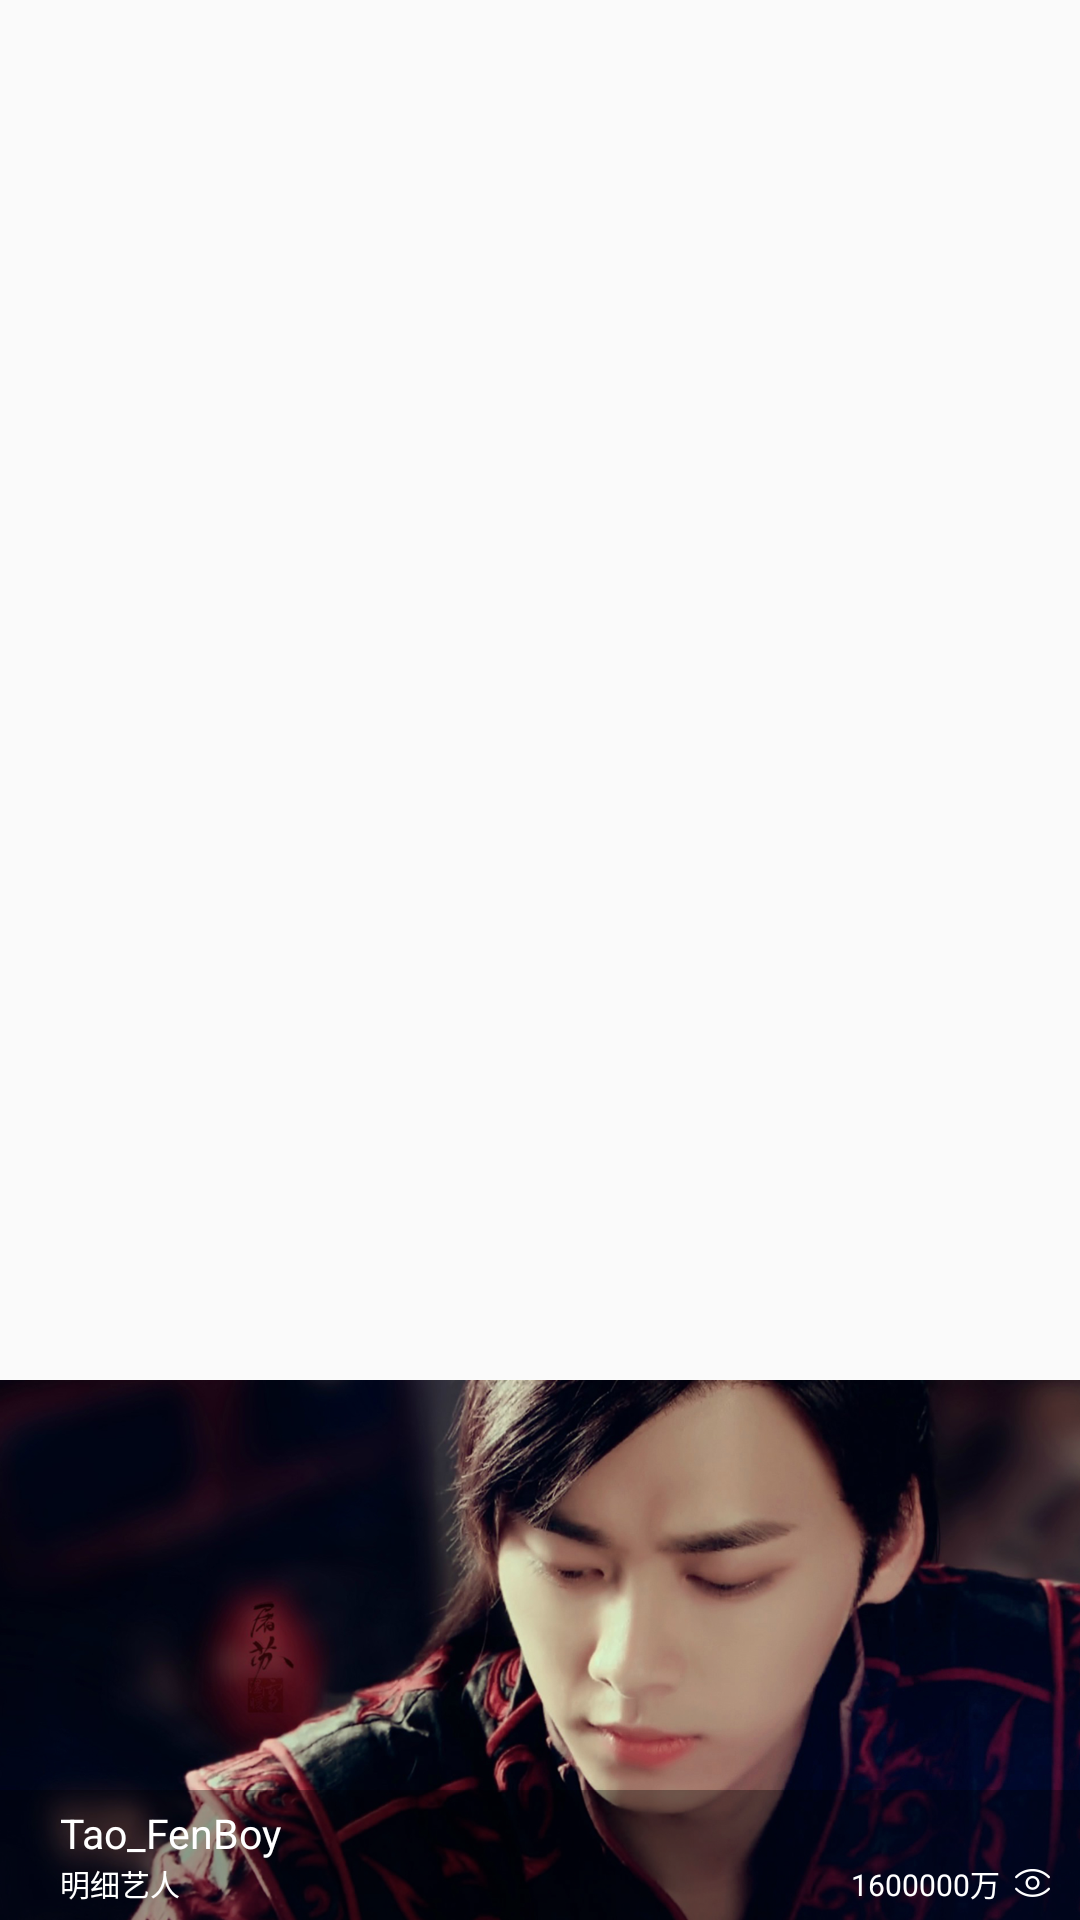

Icon click points for this 1080×1920 phone screenshot, format [x,y]:
home eye: [1032,1883]
